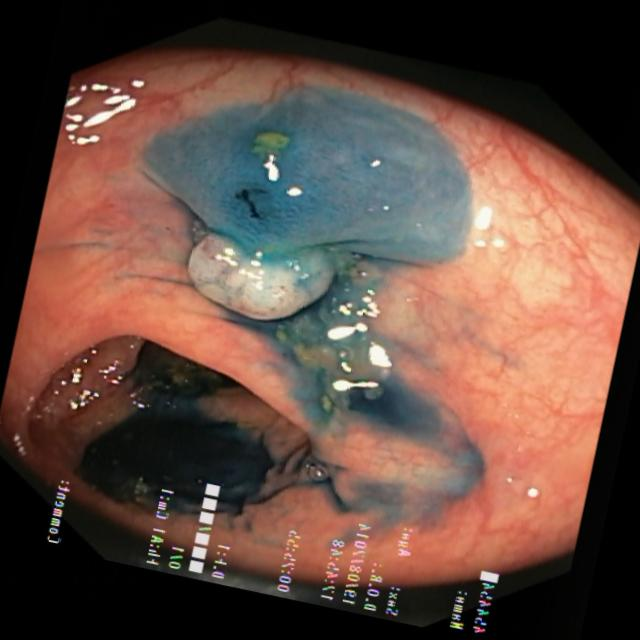dyed-lifted-polyps: (132, 90, 474, 331)
